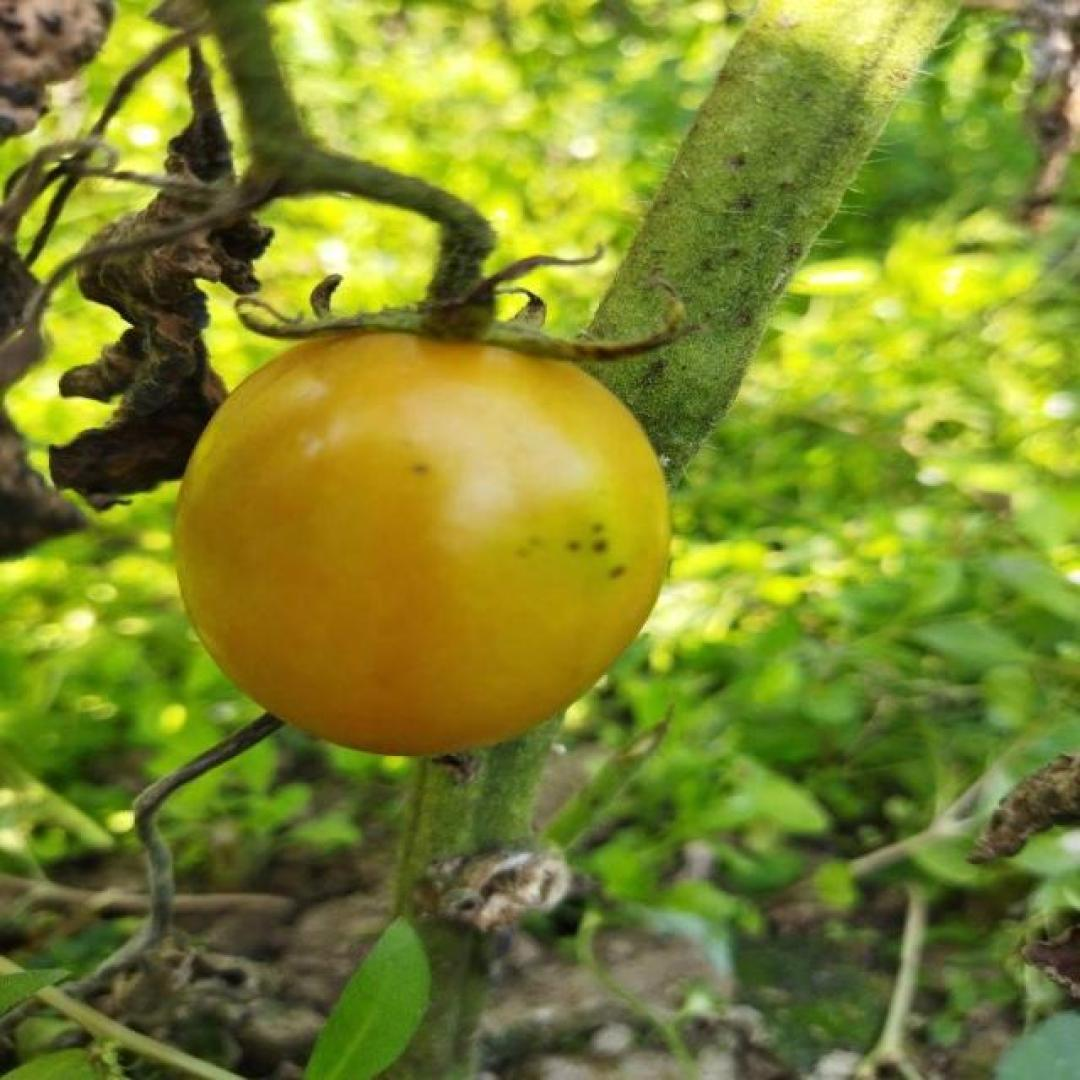setengah_matang: (167, 314, 673, 759)
